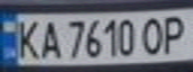0: (115, 16, 139, 56)
1: (100, 16, 121, 57)
6: (81, 16, 103, 58)
7: (63, 17, 84, 59)
A: (36, 17, 63, 60)
K: (12, 16, 42, 61)
O: (139, 15, 169, 56)
P: (157, 12, 193, 55)
